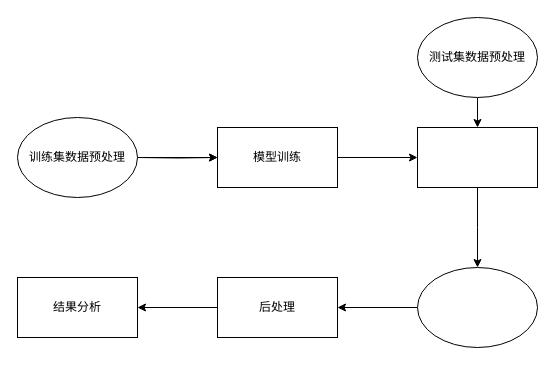
Some shapes in this 555 by 365 pixel diagram are drawn without their labels. The centre of each missing label's shape, as x and y in pixels:
"模型预测" belongs at pixel 477 157.
"生成heatmap" belongs at pixel 477 307.
